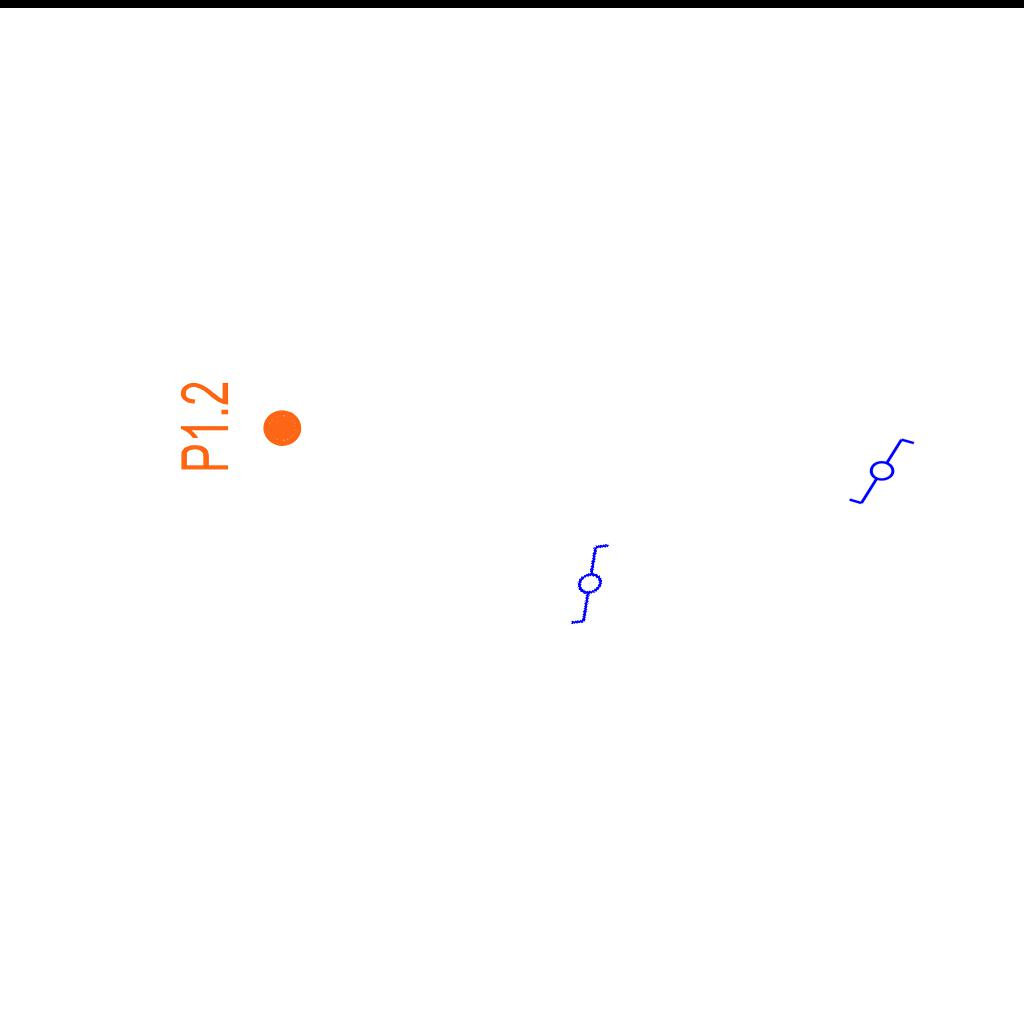Downlight_LED_Einbauleuchten_Flur: (177, 380, 305, 473)
Wechselschalter: (544, 534, 644, 632), (847, 436, 925, 508)
